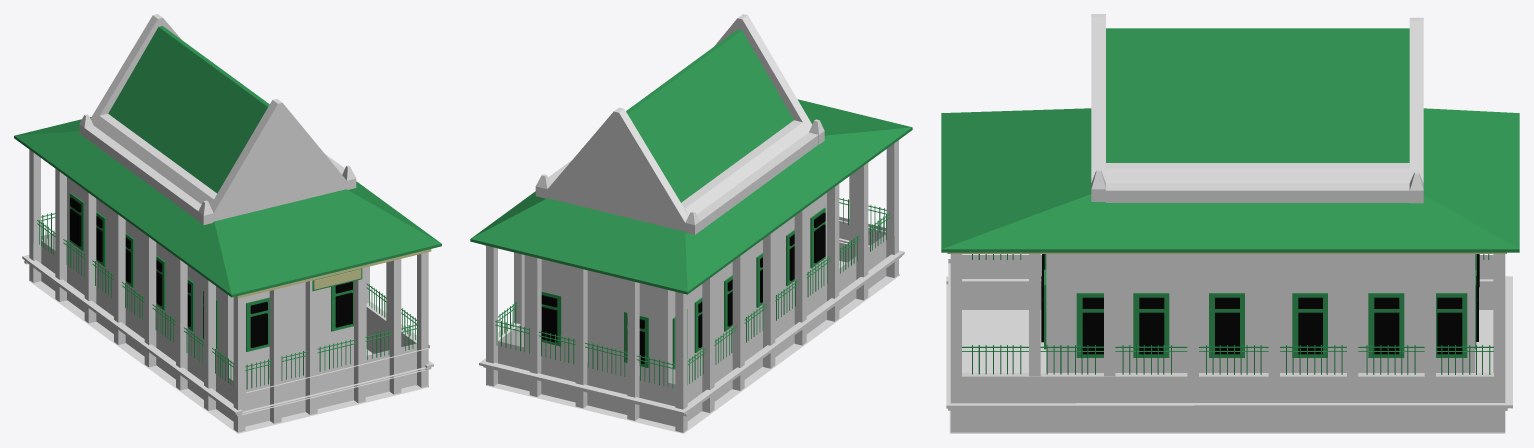
Rendered from Mosque.glb.
The picture shows the model from 3 angles, left to right: view 1: azimuth 30°, elevation 25°; view 2: azimuth 150°, elevation 25°; view 3: azimuth 270°, elevation 25°; orthographic projection. The views are drawn at different scales.
Parts seen in each view (by area): view 1: Cube.001_Cube.002, Cube.004_Cube.005, Cube.002_Cube.003, Plane, Cube_Cube.001, Cube.029_Cube.054, Cube.023_Cube.039, Cube.019_Cube.035, Cube.027_Cube.050, Cube.021_Cube.037, Cube.015_Cube.031, Cube.017_Cube.033 (+12 smaller); view 2: Cube.001_Cube.002, Cube.004_Cube.005, Cube.002_Cube.003, Cube_Cube.001, Plane, Cube.029_Cube.054, Cube.020_Cube.036, Cube.026_Cube.049, Cube.025_Cube.048, Cube.024_Cube.047, Cube.016_Cube.032, Cube.014_Cube.030 (+11 smaller); view 3: Cube.001_Cube.002, Cube.002_Cube.003, Plane, Cube_Cube.001, Cube.004_Cube.005, Cube.030_Cube.053, Cube.006_Cube.011, Cube.005_Cube.022, Cube.028_Cube.051, Cube.007_Cube.023, Cube.008_Cube.024, Cube.009_Cube.025 (+18 smaller).
Boxes of the visible parts, left/top/right/bottom form: Cube.001_Cube.002: left=14, top=117, right=441, bottom=297; Cube.004_Cube.005: left=79, top=14, right=356, bottom=224; Cube.002_Cube.003: left=108, top=26, right=269, bottom=193; Plane: left=29, top=233, right=429, bottom=433; Cube_Cube.001: left=67, top=177, right=366, bottom=385; Cube.029_Cube.054: left=25, top=258, right=242, bottom=414; Cube.023_Cube.039: left=389, top=259, right=401, bottom=394; Cube.019_Cube.035: left=233, top=297, right=245, bottom=432; Cube.027_Cube.050: left=269, top=288, right=281, bottom=423; Cube.021_Cube.037: left=305, top=280, right=317, bottom=414; Cube.015_Cube.031: left=144, top=234, right=156, bottom=367; Cube.017_Cube.033: left=84, top=190, right=96, bottom=323; Cube.001_Cube.002: left=470, top=99, right=912, bottom=294; Cube.004_Cube.005: left=535, top=14, right=824, bottom=234; Cube.002_Cube.003: left=626, top=29, right=793, bottom=202; Cube_Cube.001: left=524, top=193, right=826, bottom=384; Plane: left=486, top=216, right=899, bottom=433; Cube.029_Cube.054: left=685, top=250, right=904, bottom=413; Cube.020_Cube.036: left=675, top=292, right=687, bottom=432; Cube.026_Cube.049: left=627, top=280, right=639, bottom=420; Cube.025_Cube.048: left=575, top=267, right=587, bottom=408; Cube.024_Cube.047: left=529, top=256, right=541, bottom=396; Cube.016_Cube.032: left=763, top=231, right=775, bottom=368; Cube.014_Cube.030: left=827, top=184, right=839, bottom=321; Cube.001_Cube.002: left=941, top=108, right=1519, bottom=252; Cube.002_Cube.003: left=1106, top=28, right=1409, bottom=162; Plane: left=946, top=254, right=1505, bottom=433; Cube_Cube.001: left=1046, top=254, right=1475, bottom=372; Cube.004_Cube.005: left=1091, top=14, right=1423, bottom=203; Cube.030_Cube.053: left=946, top=401, right=1505, bottom=408; Cube.006_Cube.011: left=950, top=254, right=961, bottom=432; Cube.005_Cube.022: left=1494, top=254, right=1505, bottom=432; Cube.028_Cube.051: left=948, top=408, right=1501, bottom=410; Cube.007_Cube.023: left=1424, top=254, right=1435, bottom=376; Cube.008_Cube.024: left=1347, top=254, right=1358, bottom=376; Cube.009_Cube.025: left=1268, top=254, right=1279, bottom=376.
Size of the model in its own units: 3.03 by 3.7 by 5.43.
